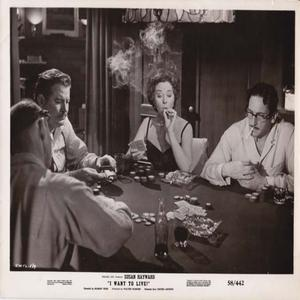cigarette: (246, 128, 255, 140)
